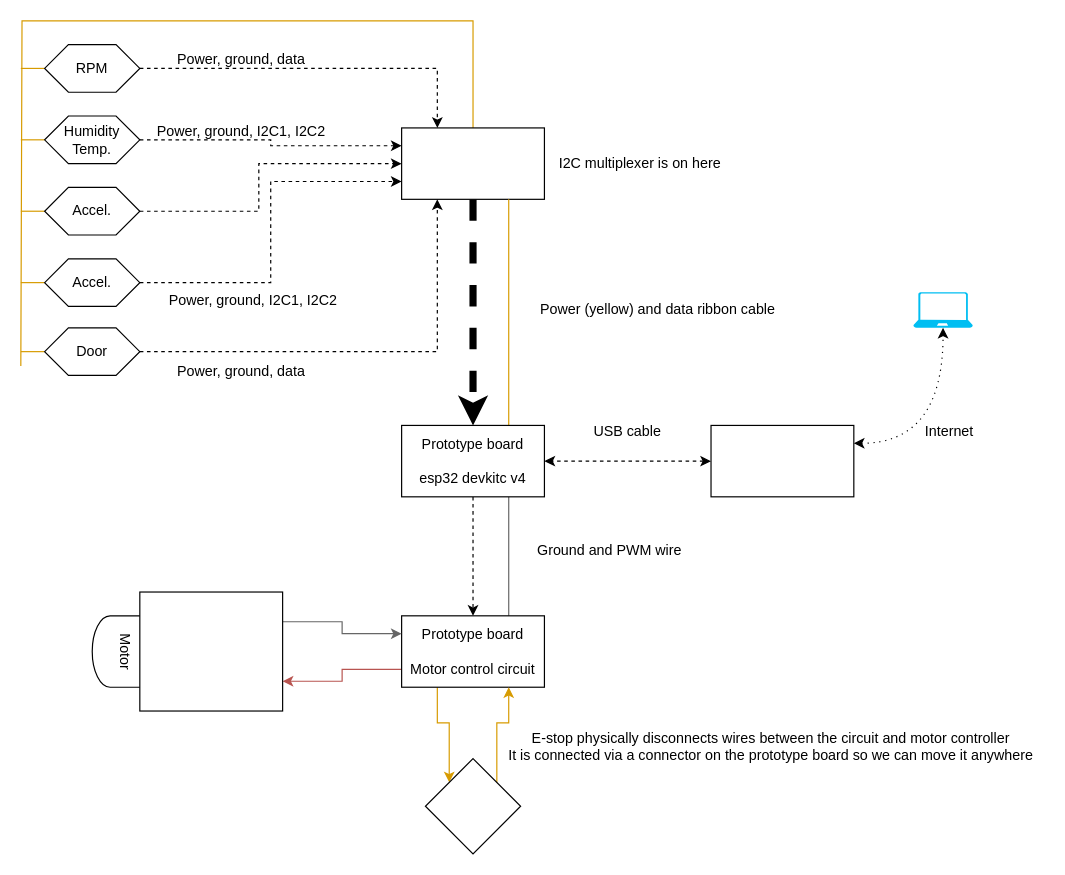
Some shapes in this 1065 by 875 pixel diagram are drawn without their labels. Here are the shapes that lost their labels. From the top down, the box of each, then its label:
(400, 127, 544, 199): Prototype board Sensors
(710, 424, 854, 497): Raspberry Pi
(139, 591, 283, 711): Motor controller
(424, 757, 521, 854): E-stop
